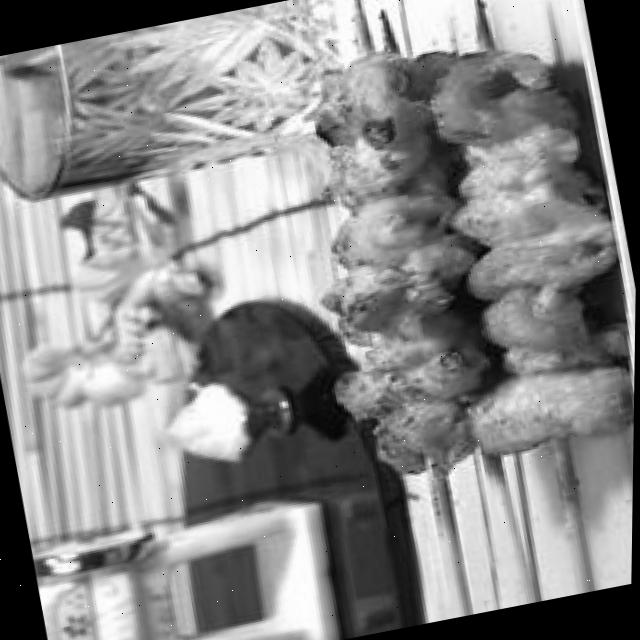烧串烤肉: (254, 0, 640, 633)
